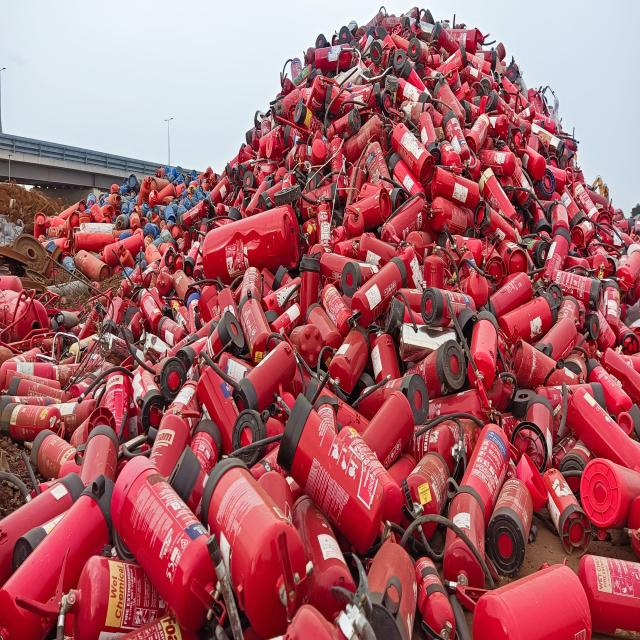Cylinder: (111, 455, 219, 635)
Large-Cylinder: (202, 205, 300, 285)
